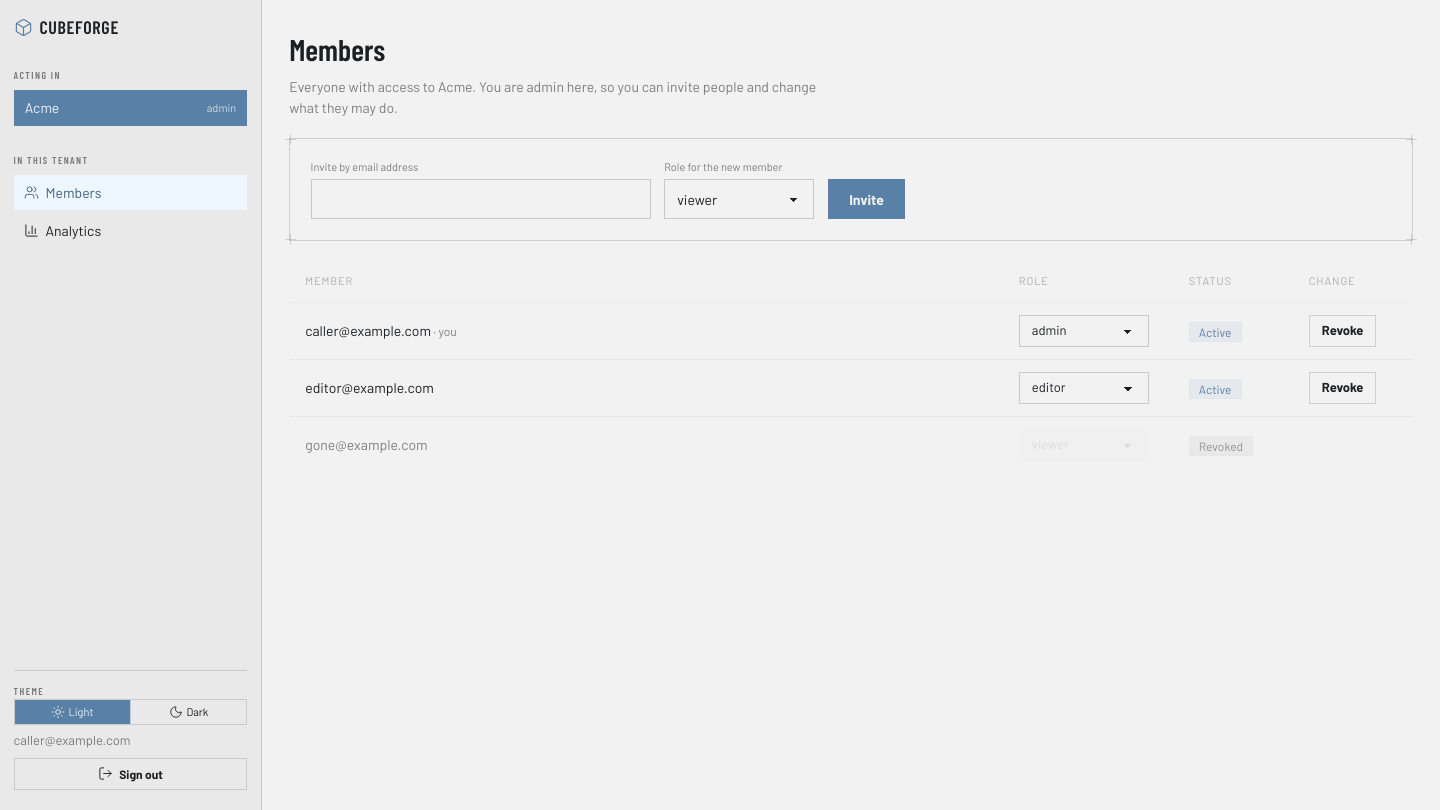
Test: an administrator who demotes themselves › stops being offered what their new role does not permit
Expected: the element showing "Acme admin" is shown, [14,90,247,126]
Expected: the text "editor@example.com" is shown, [289,360,1003,416]
Select "viewer" in the dropdown named "Role of caller@example.com" at [1084, 330], box [1019,314,1149,346]
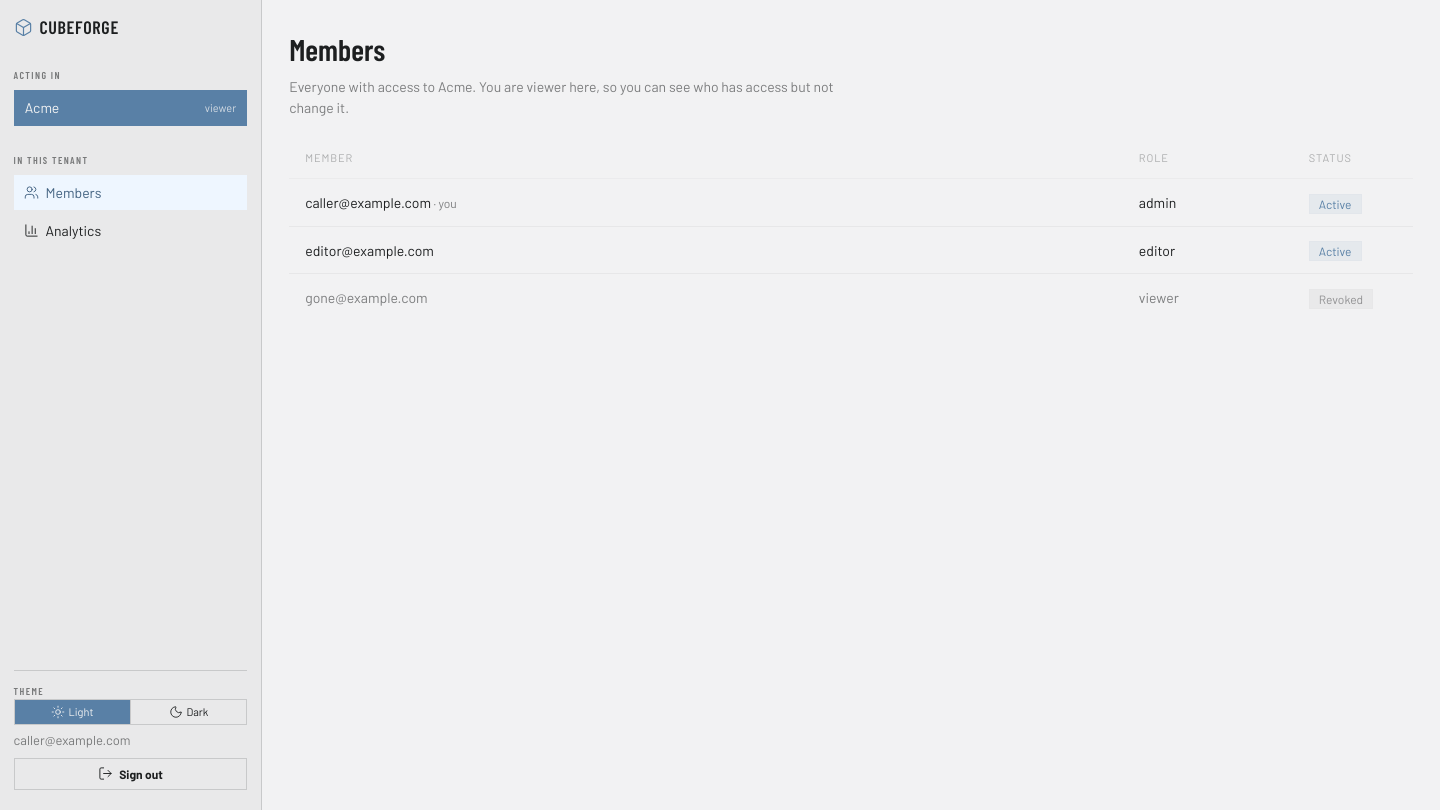
Now the element showing "Acme viewer" is shown, box [14,90,247,126]
Now the text "invite" is gone
